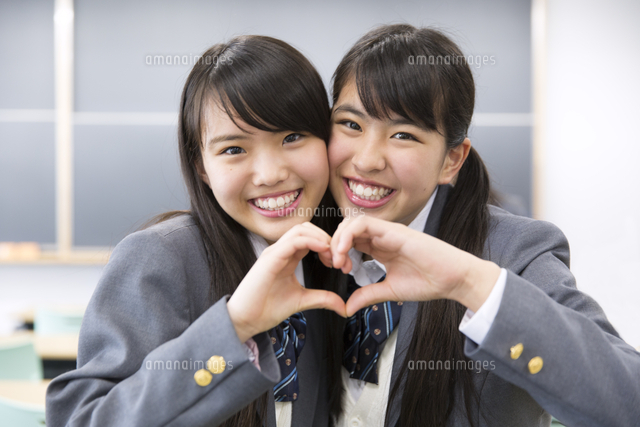face: (327, 71, 469, 223), (199, 74, 327, 239)
hand: (331, 214, 480, 319), (233, 222, 348, 332)
